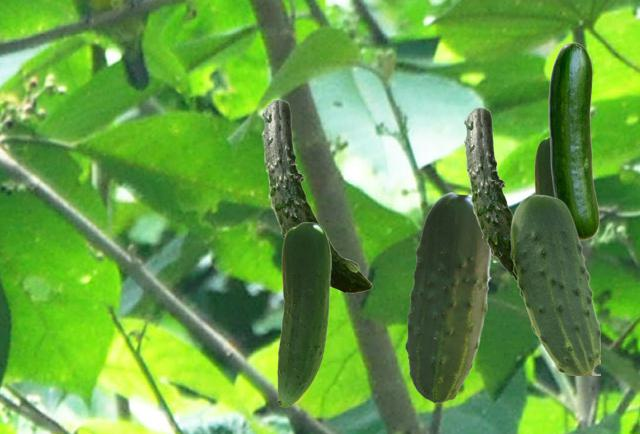cucumber: (261, 99, 371, 292), (405, 192, 491, 402), (510, 194, 599, 374), (548, 42, 598, 239), (277, 222, 330, 406), (463, 107, 515, 280), (534, 136, 553, 195)
